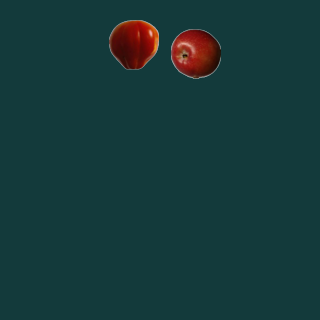Apple Braeburn: (170, 28, 220, 78)
Tomato 1: (108, 19, 158, 69)
